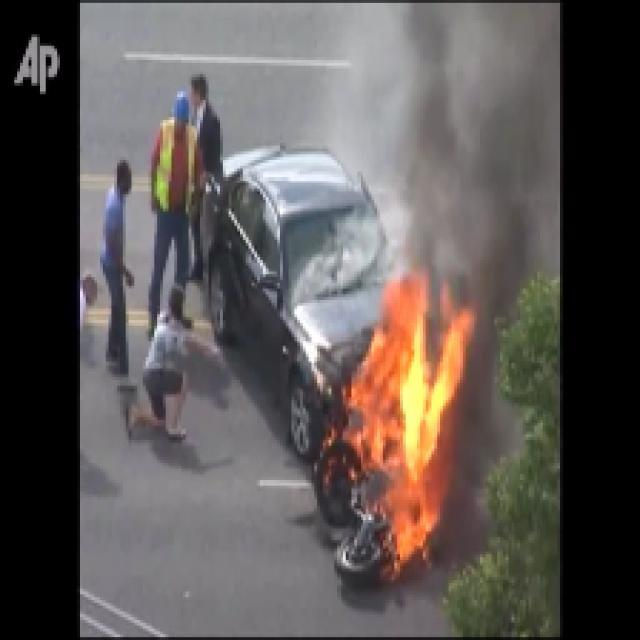Fire: (350, 290, 452, 560)
Smoke: (414, 2, 554, 290)
